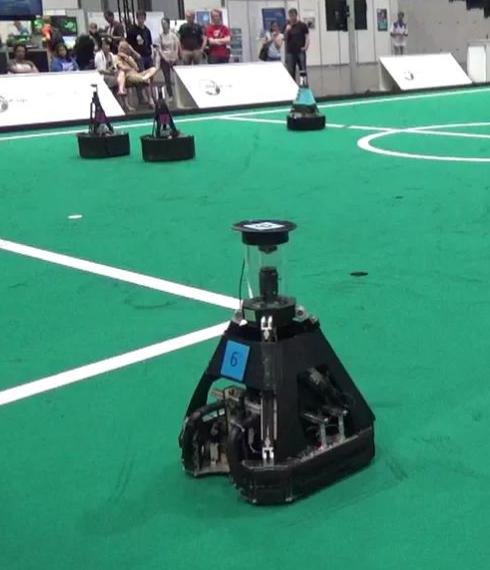robot: (173, 209, 390, 516), (65, 80, 139, 164), (139, 83, 199, 167), (282, 61, 339, 139)
